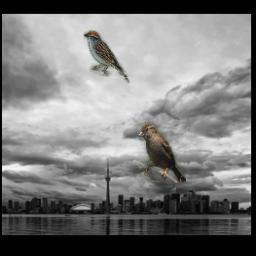Sparrow: (139, 122, 187, 182), (85, 31, 130, 84)
